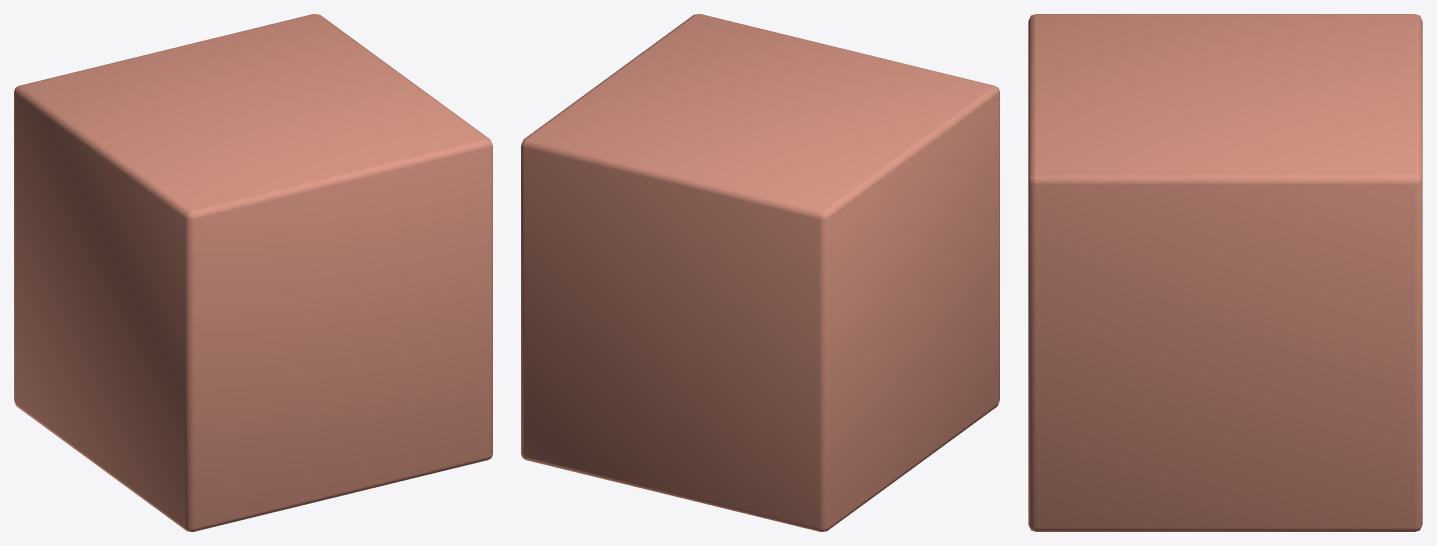
The model's file is brick.glb.
The picture shows the model from 3 angles, left to right: view 1: azimuth 30°, elevation 25°; view 2: azimuth 150°, elevation 25°; view 3: azimuth 270°, elevation 25°; orthographic projection. The views are drawn at different scales.
Visible parts, largest first — view 1: brick; view 2: brick; view 3: brick.
Part boxes in pixels (x1,y1,x2,y2): brick: (14,14,492,531); brick: (521,14,999,531); brick: (1028,14,1422,531).
Bounding box in the file's own units: 1 × 1 × 1.
